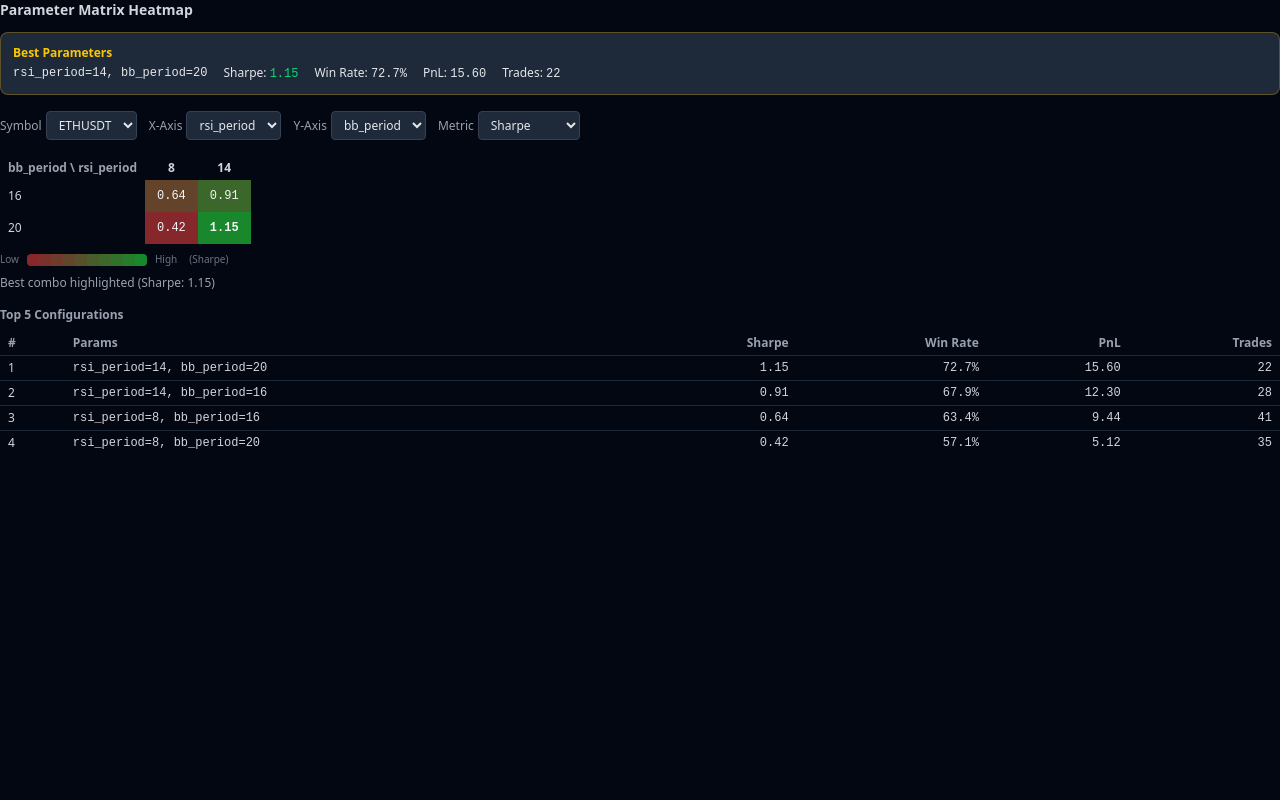
Scenario: ParameterMatrixView › shows popover on cell click
What coordinates should you click on to do the following:
click the 1st text "0.64"
I would click on:
 (171, 196)
Its box is [145,180,198,212].
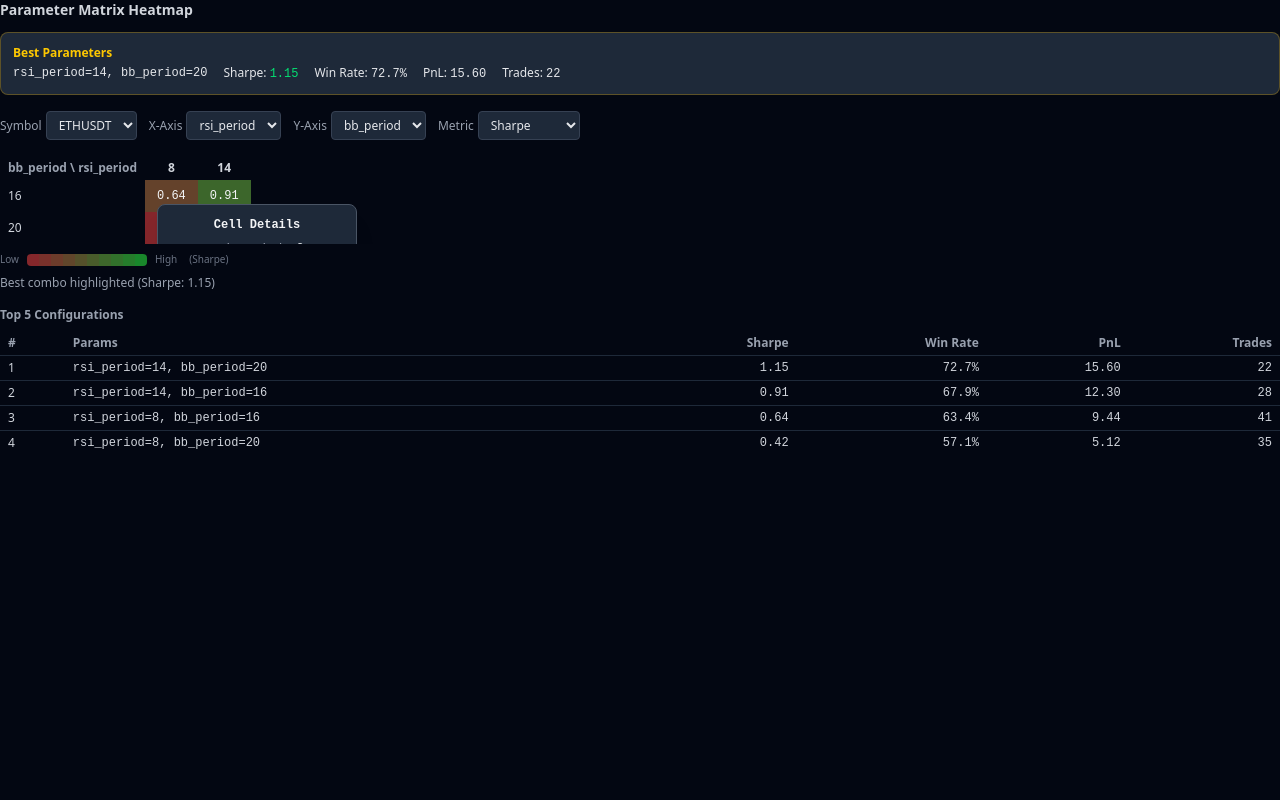
expect the text "Cell Details" is shown: met, box [214,218,300,232]
